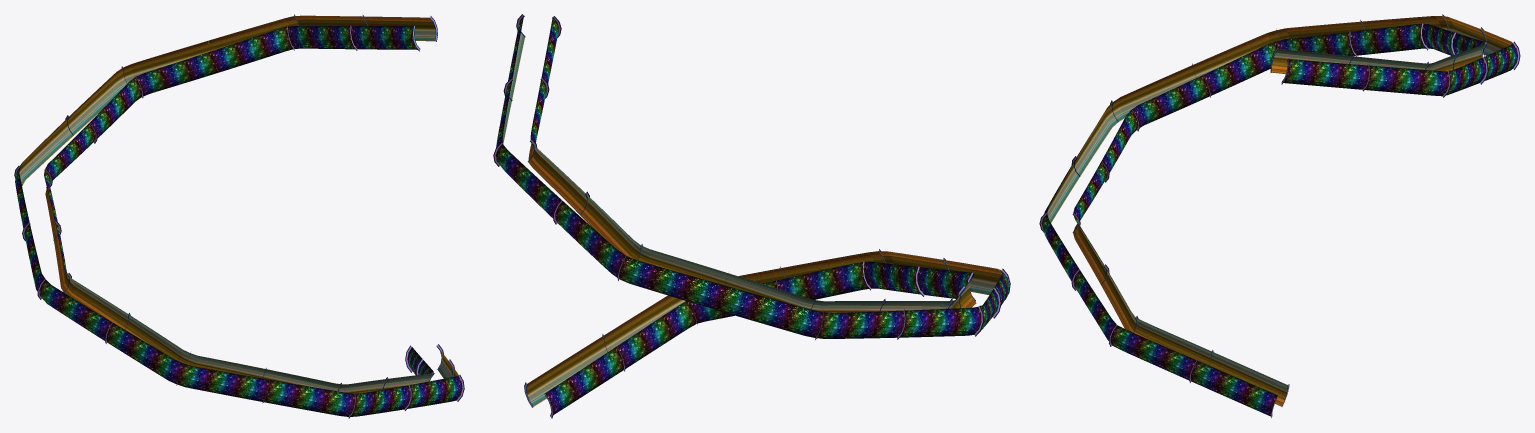
File: FooGuardLongB.fbx
3 views of the same model, side by side, from view 1: azimuth 30°, elevation 25°; view 2: azimuth 150°, elevation 25°; view 3: azimuth 270°, elevation 25° (orthographic). The views are drawn at different scales.
Parts seen in each view (by area): view 1: FooGuardLongB; view 2: FooGuardLongB; view 3: FooGuardLongB.
Boxes of the visible parts, <box> form: FooGuardLongB: <box>14,14,464,418</box>; FooGuardLongB: <box>493,14,1010,418</box>; FooGuardLongB: <box>1039,14,1520,417</box>.
Bounding box in the file's own units: 3619015 × 2995846 × 3619634.
